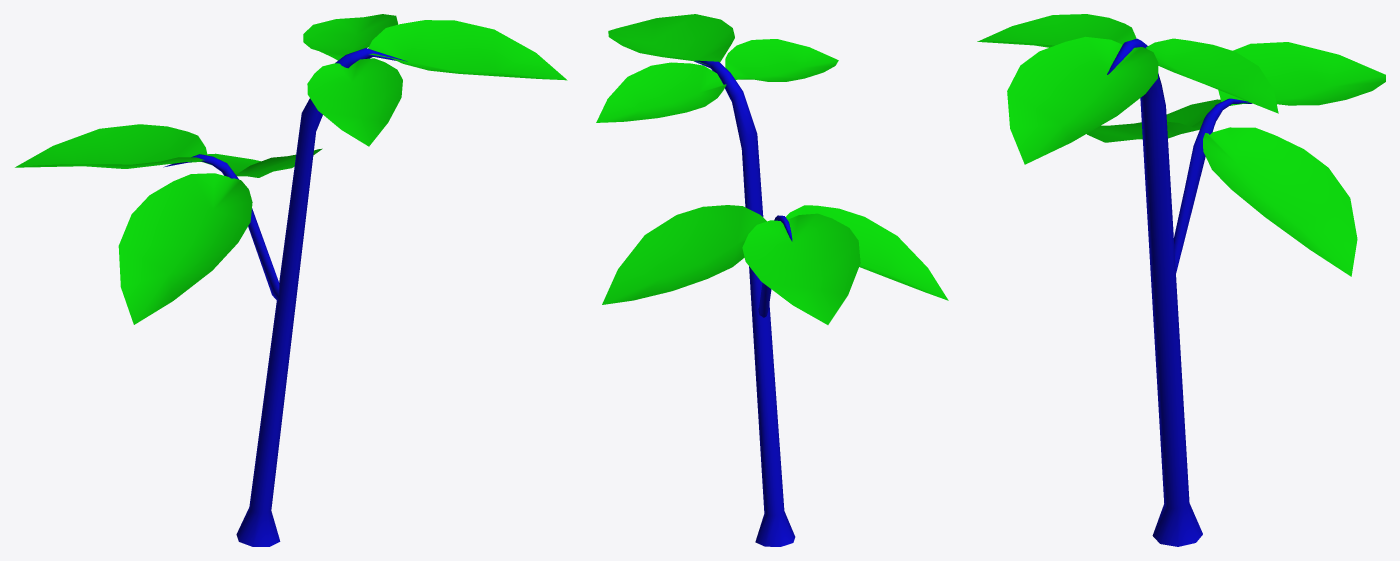
The model's file is BlackBerry_1.fbx.
3 views of the same model, side by side, from view 1: azimuth 30°, elevation 25°; view 2: azimuth 150°, elevation 25°; view 3: azimuth 270°, elevation 25° (orthographic). The views are drawn at different scales.
Visible parts, largest first — view 1: BSTC_BlackBerry_1; view 2: BSTC_BlackBerry_1; view 3: BSTC_BlackBerry_1.
Boxes of the visible parts, x1,y1,x2,y2 form: BSTC_BlackBerry_1: (15, 14, 567, 546); BSTC_BlackBerry_1: (596, 14, 948, 546); BSTC_BlackBerry_1: (977, 14, 1385, 546).
Size of the model in its own units: 21.82 by 25.74 by 17.42.
